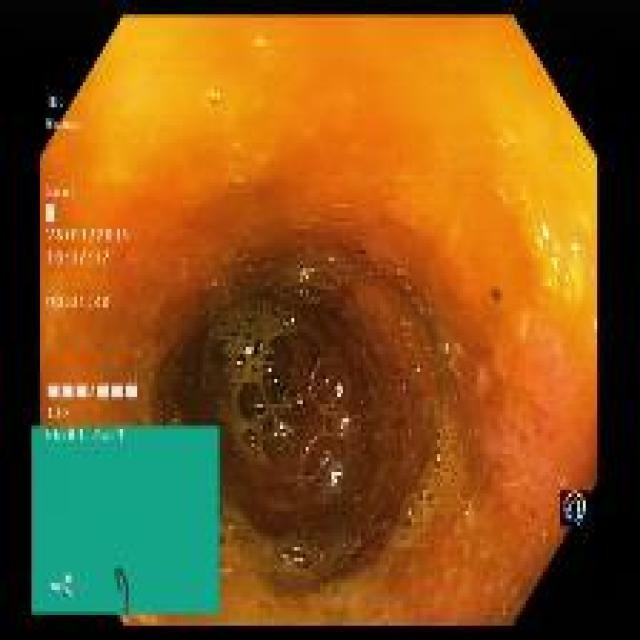ulcerative-colitis: (40, 17, 598, 624)
